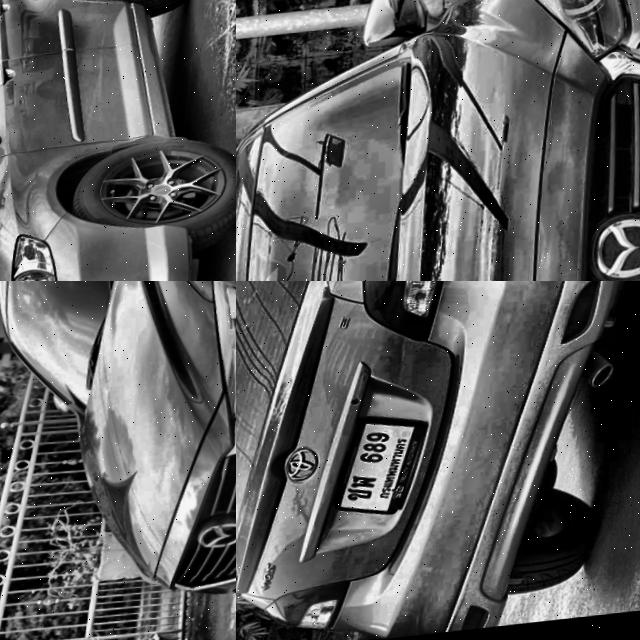license-plate: (332, 411, 447, 525)
